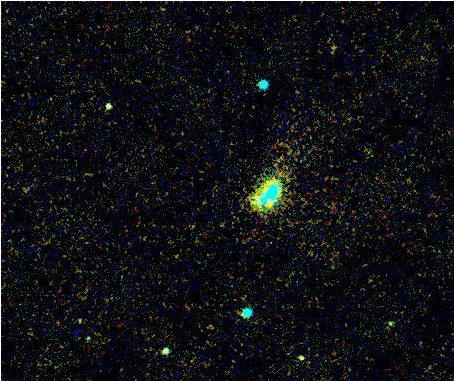star: (289, 345, 319, 375)
